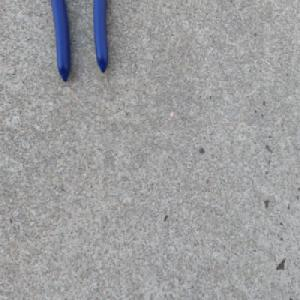Pliers: (50, 0, 111, 86)
